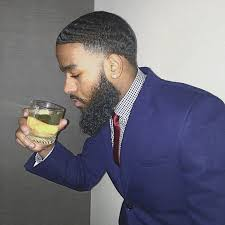black_male: (40, 8, 149, 128)
